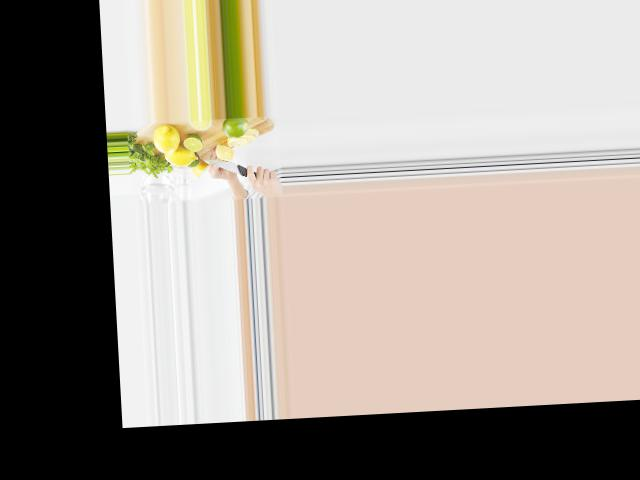lemon: (148, 124, 183, 154)
